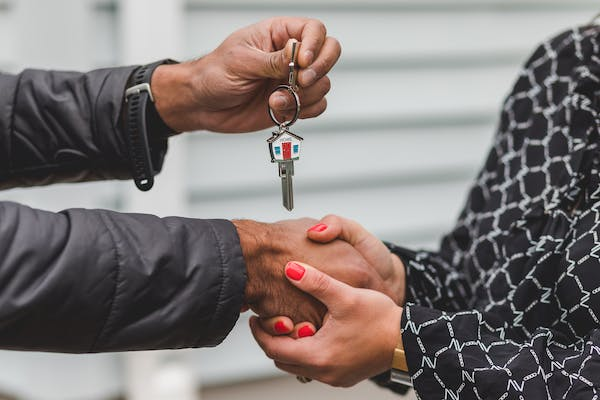key: (267, 128, 304, 211)
